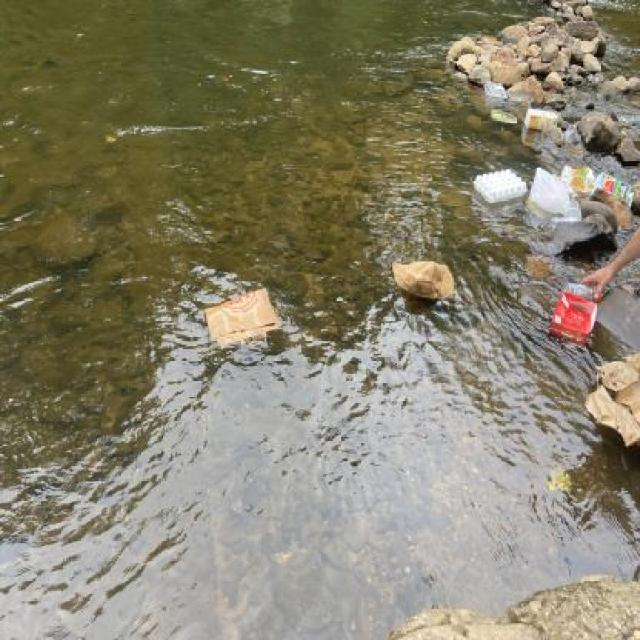Cardboard: (549, 289, 600, 351), (576, 163, 637, 214), (522, 105, 562, 134)
Paper: (198, 280, 284, 360), (583, 350, 640, 458), (386, 253, 459, 307)
Plastic: (472, 163, 532, 211), (526, 165, 572, 218), (482, 78, 511, 102)
